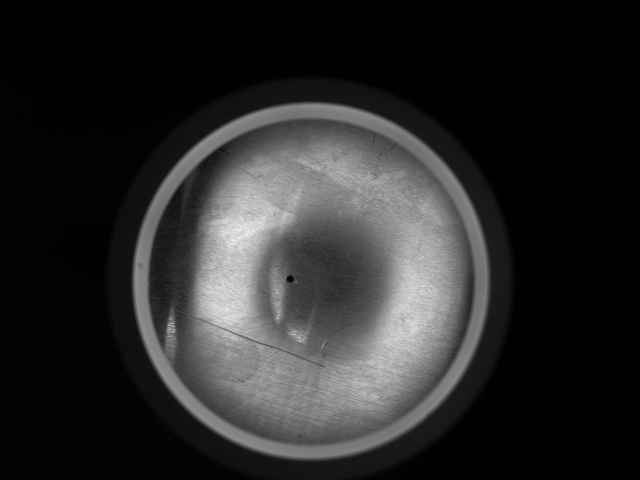ca_shang: (140, 293, 332, 372)
zhen_kong: (282, 272, 297, 286)
